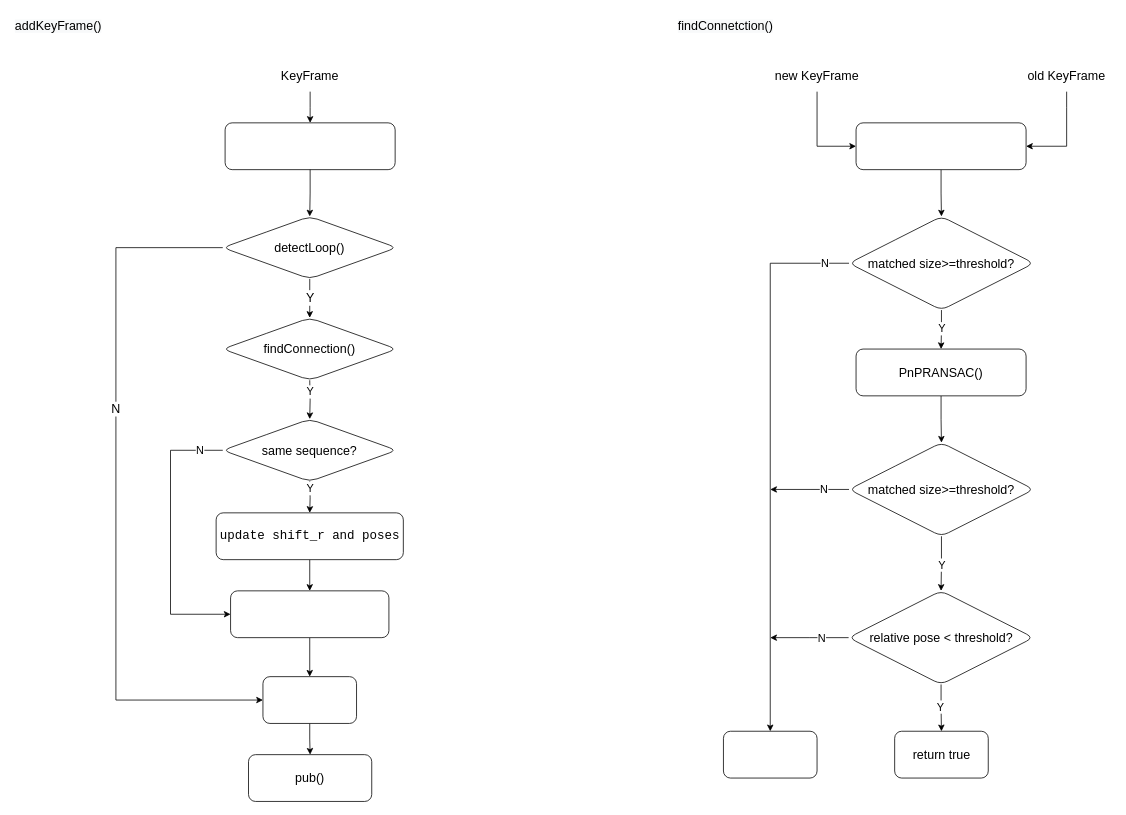
Image size: 1126x815. Some labels were removed from this diagram. Each missing label, with the box of its shape:
add loop to optimization: (230, 590, 389, 638)
convert vio pose to map: (224, 122, 395, 170)
matchByBriefDes(): (855, 122, 1026, 170)
return false: (723, 730, 817, 778)
update poses: (262, 676, 357, 723)
